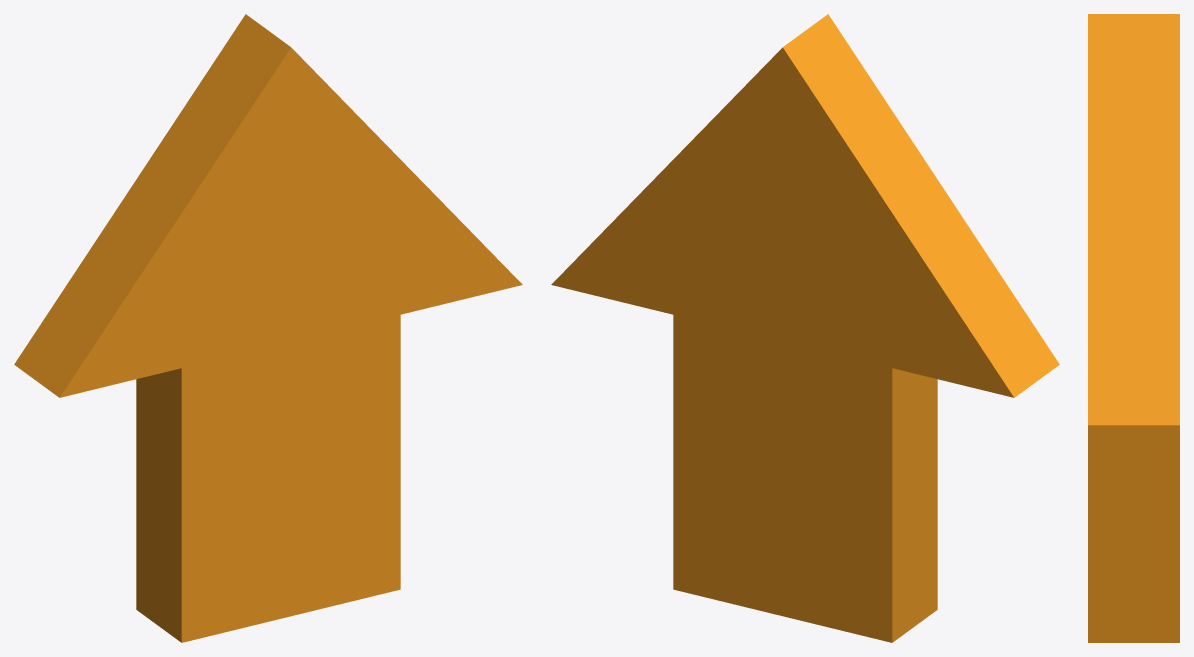
Rendered from SM_Icon_Arrow_Small_01.fbx.
3 views of the same model, side by side, from view 1: azimuth 30°, elevation 25°; view 2: azimuth 150°, elevation 25°; view 3: azimuth 270°, elevation 25° (orthographic).
Parts seen in each view (by area): view 1: SM_Icon_Arrow_Small_01; view 2: SM_Icon_Arrow_Small_01; view 3: SM_Icon_Arrow_Small_01.
Boxes of the visible parts, x1,y1,x2,y2 form: SM_Icon_Arrow_Small_01: (14,14,522,642); SM_Icon_Arrow_Small_01: (551,14,1059,642); SM_Icon_Arrow_Small_01: (1088,14,1179,642).
Bounding box in the file's own units: 17.64 × 20.7 × 3.
